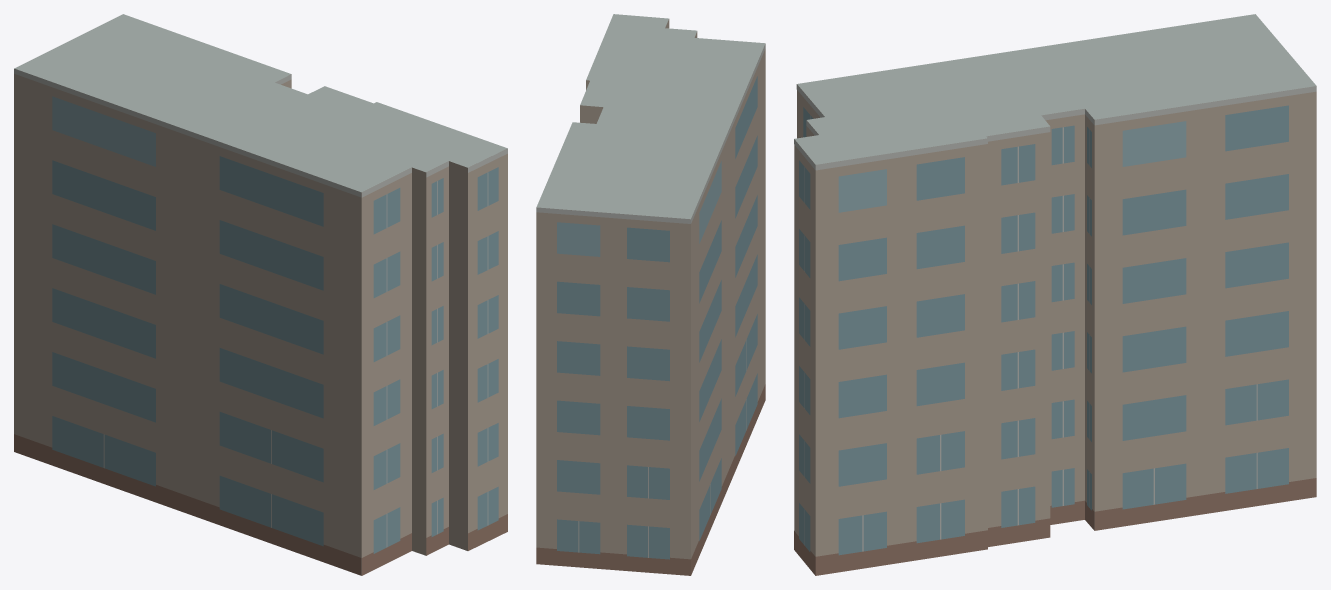
The model's file is survey-upis-32595322.glb.
The picture shows the model from 3 angles, left to right: view 1: azimuth 30°, elevation 25°; view 2: azimuth 150°, elevation 25°; view 3: azimuth 270°, elevation 25°; orthographic projection. The views are drawn at different scales.
Parts seen in each view (by area): view 1: survey-upis-32595322.tmp; view 2: survey-upis-32595322.tmp; view 3: survey-upis-32595322.tmp.
Boxes of the visible parts, <box> form: survey-upis-32595322.tmp: <box>14,14,507,575</box>; survey-upis-32595322.tmp: <box>536,14,765,575</box>; survey-upis-32595322.tmp: <box>794,14,1316,575</box>.
Bounding box in the file's own units: 14.14 × 17.95 × 20.69.
